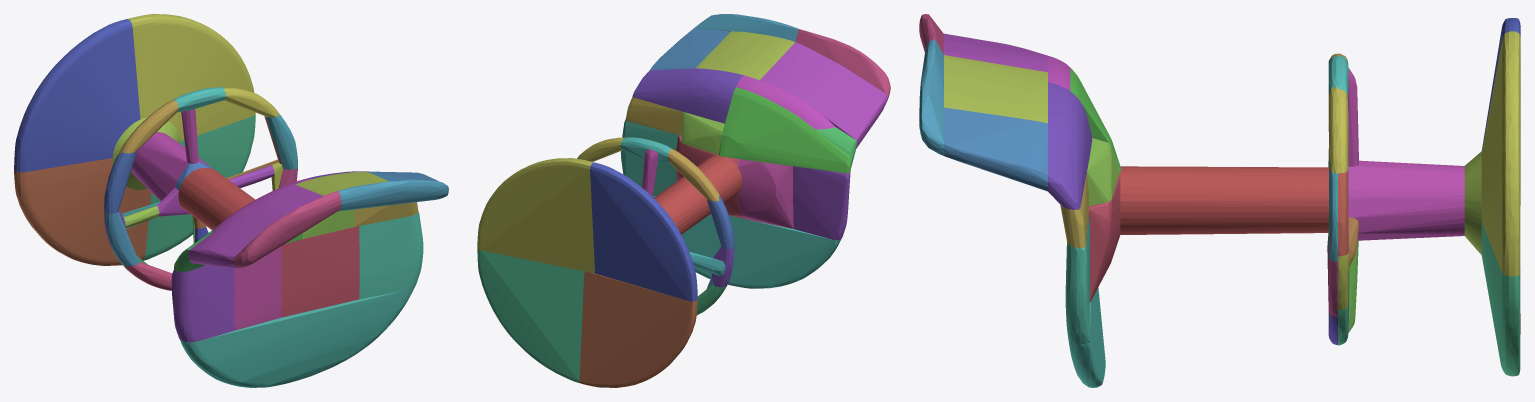
File: hulls.glb
3 renders of one model, left to right at view 1: azimuth 30°, elevation 25°; view 2: azimuth 150°, elevation 25°; view 3: azimuth 270°, elevation 25°, orthographic. The views are drawn at different scales.
Size of the model in its own units: 0.5354 by 0.5116 by 0.842.
